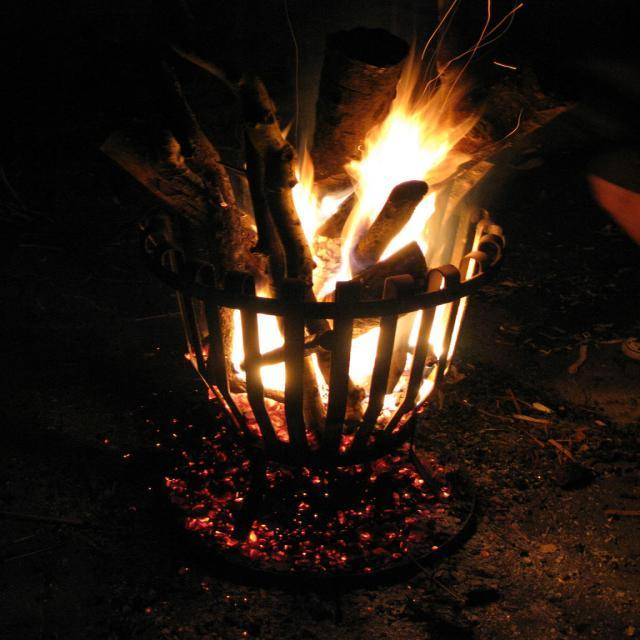Fire: (358, 116, 456, 231), (258, 321, 298, 382)
